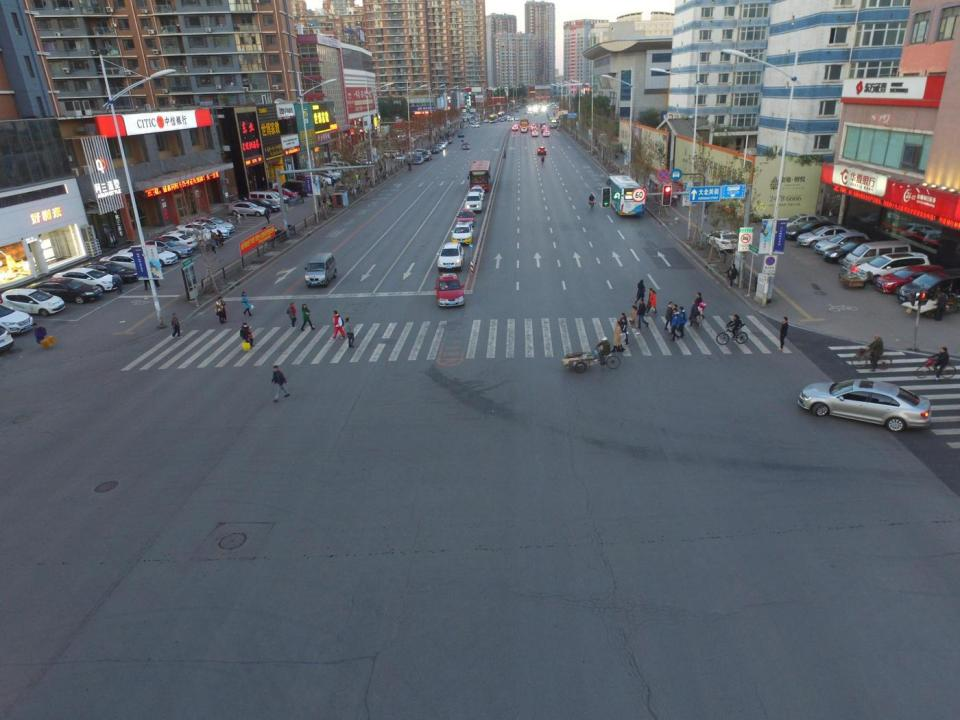bus: (606, 176, 645, 218), (466, 158, 490, 192), (549, 116, 559, 128), (489, 114, 499, 123), (462, 142, 470, 149), (497, 111, 506, 117)
car: (794, 376, 933, 430), (850, 251, 932, 285), (897, 266, 960, 303), (0, 284, 67, 316), (877, 264, 946, 295), (25, 278, 104, 305), (54, 265, 125, 292), (76, 256, 141, 283), (100, 252, 162, 276), (815, 232, 873, 256), (796, 225, 859, 247), (118, 244, 178, 267), (823, 241, 884, 263), (177, 216, 229, 238), (144, 237, 193, 259), (434, 274, 467, 306), (783, 220, 836, 239), (706, 228, 745, 253), (778, 213, 828, 232), (436, 242, 466, 272), (195, 215, 238, 234), (154, 232, 198, 250), (226, 202, 268, 217), (239, 198, 281, 213), (164, 228, 204, 243), (450, 224, 473, 246), (455, 207, 477, 228), (258, 190, 290, 203), (266, 187, 296, 200), (464, 192, 484, 211), (468, 184, 486, 204), (407, 147, 429, 158), (420, 150, 432, 161), (394, 152, 406, 163), (414, 155, 425, 165), (536, 146, 547, 155), (436, 143, 444, 151), (432, 146, 440, 154), (442, 139, 450, 146), (439, 141, 446, 148), (512, 124, 518, 132), (458, 132, 466, 138), (520, 127, 528, 132), (469, 124, 479, 128), (514, 122, 520, 128), (532, 131, 538, 137), (446, 137, 452, 143), (514, 123, 519, 130), (544, 131, 549, 136), (475, 119, 479, 125), (506, 117, 511, 121), (504, 114, 509, 118), (506, 111, 510, 116), (470, 120, 475, 124), (510, 116, 514, 120), (484, 118, 488, 122), (478, 120, 482, 124), (514, 117, 519, 120), (499, 118, 504, 121), (502, 116, 507, 119), (514, 109, 518, 112), (510, 113, 514, 115)
van: (841, 239, 912, 274), (302, 251, 338, 287), (250, 191, 283, 207), (280, 180, 308, 197)
